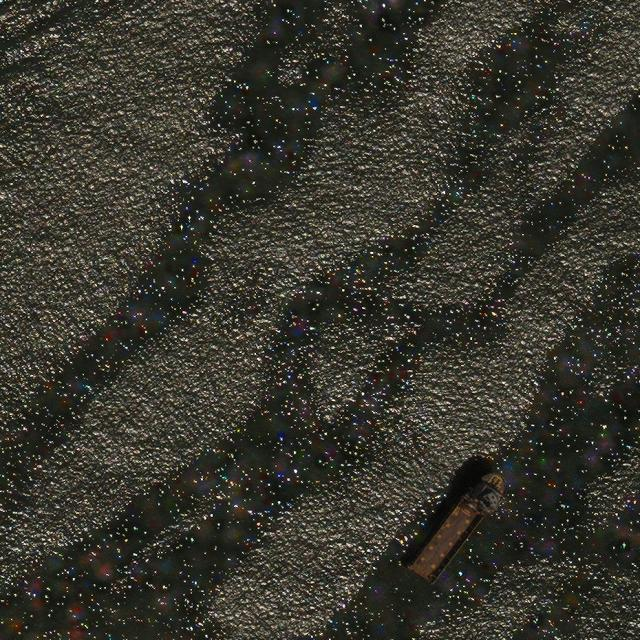Cargo: (405, 457, 519, 590)
